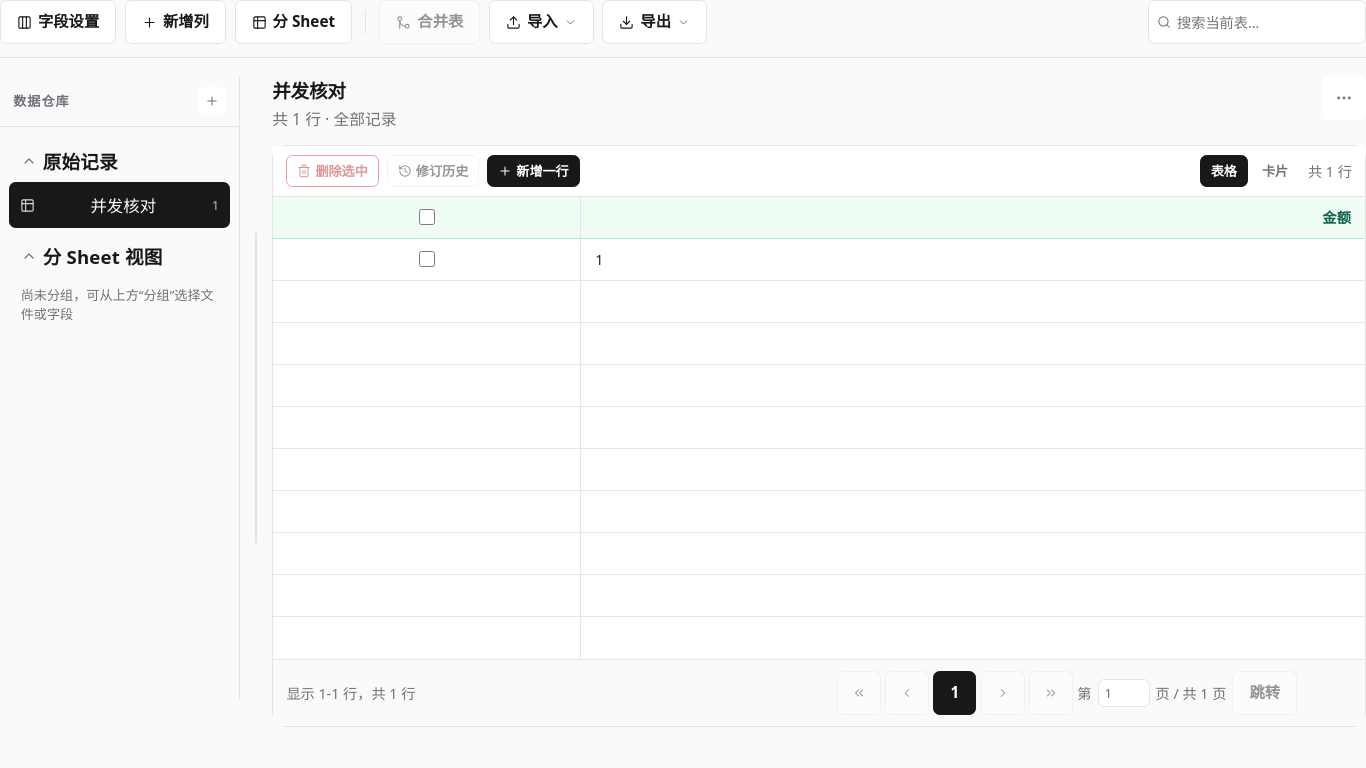
it: keeps the edit-start version for a header cell when the same DOM receives refreshed facts
The width and height of the screenshot is (1366, 768).
Click the cell named "编辑 金额，当前值 1": click(973, 260) [581,239,1365,281]
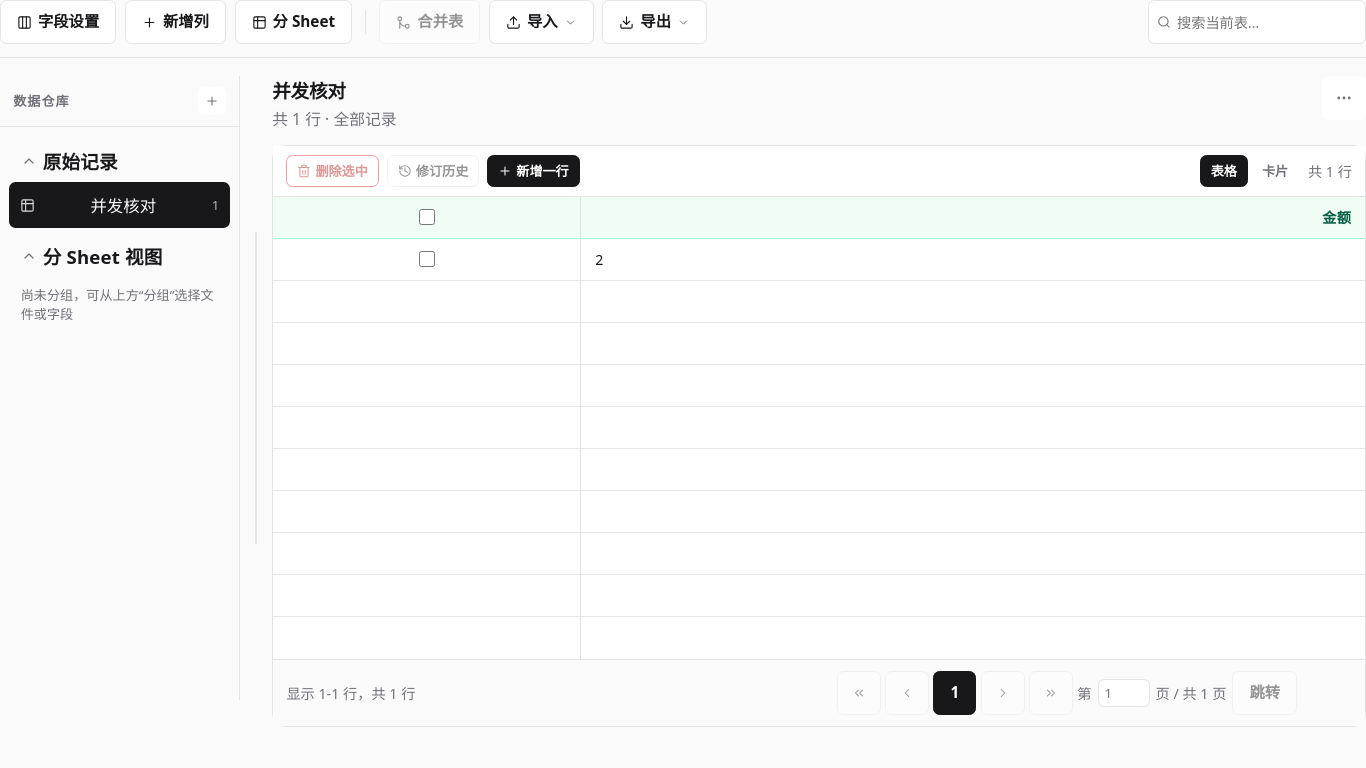
Clear the text box labelled "2": (599, 259) [595,250,603,269]
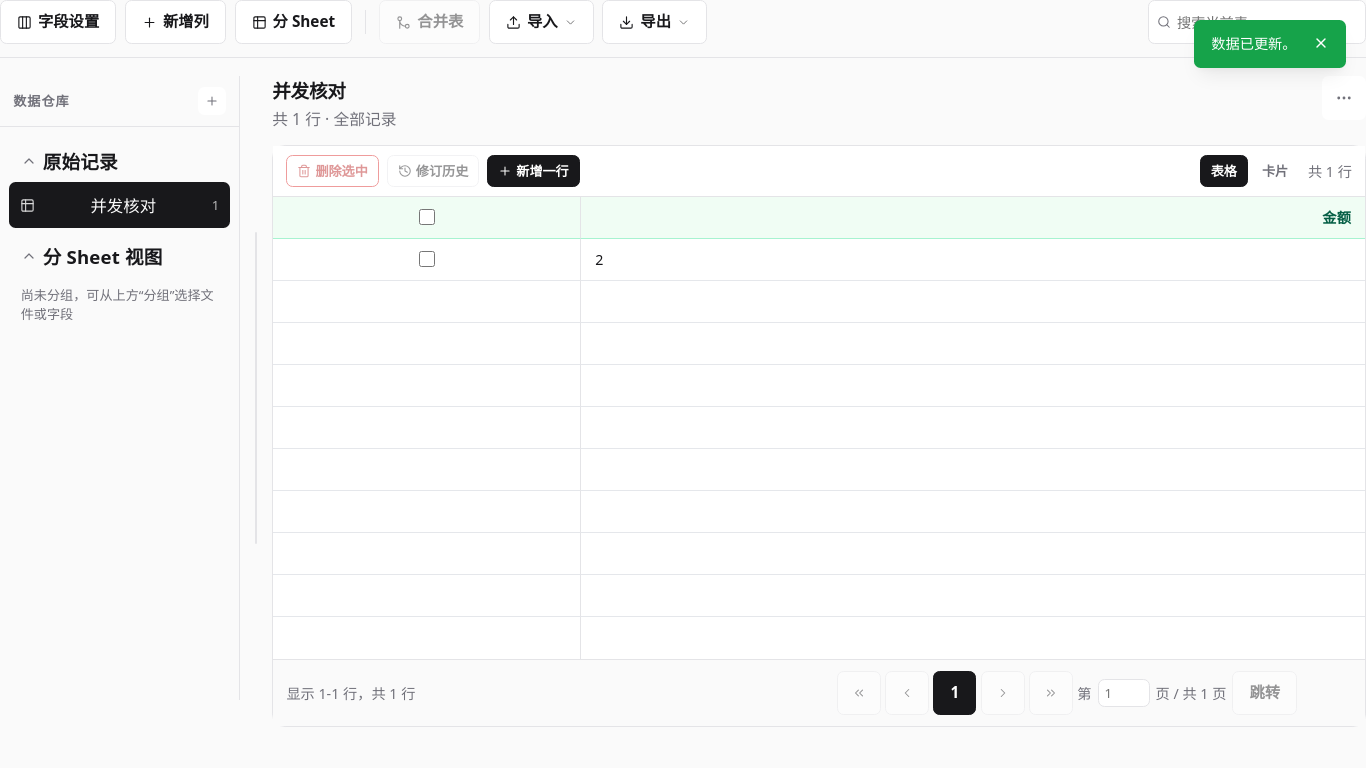
expect the cell named "编辑 金额，当前值 99" is shown: met, box [581,239,1365,281]
Press Enter in the text box labelled "2", box [595,250,603,269]
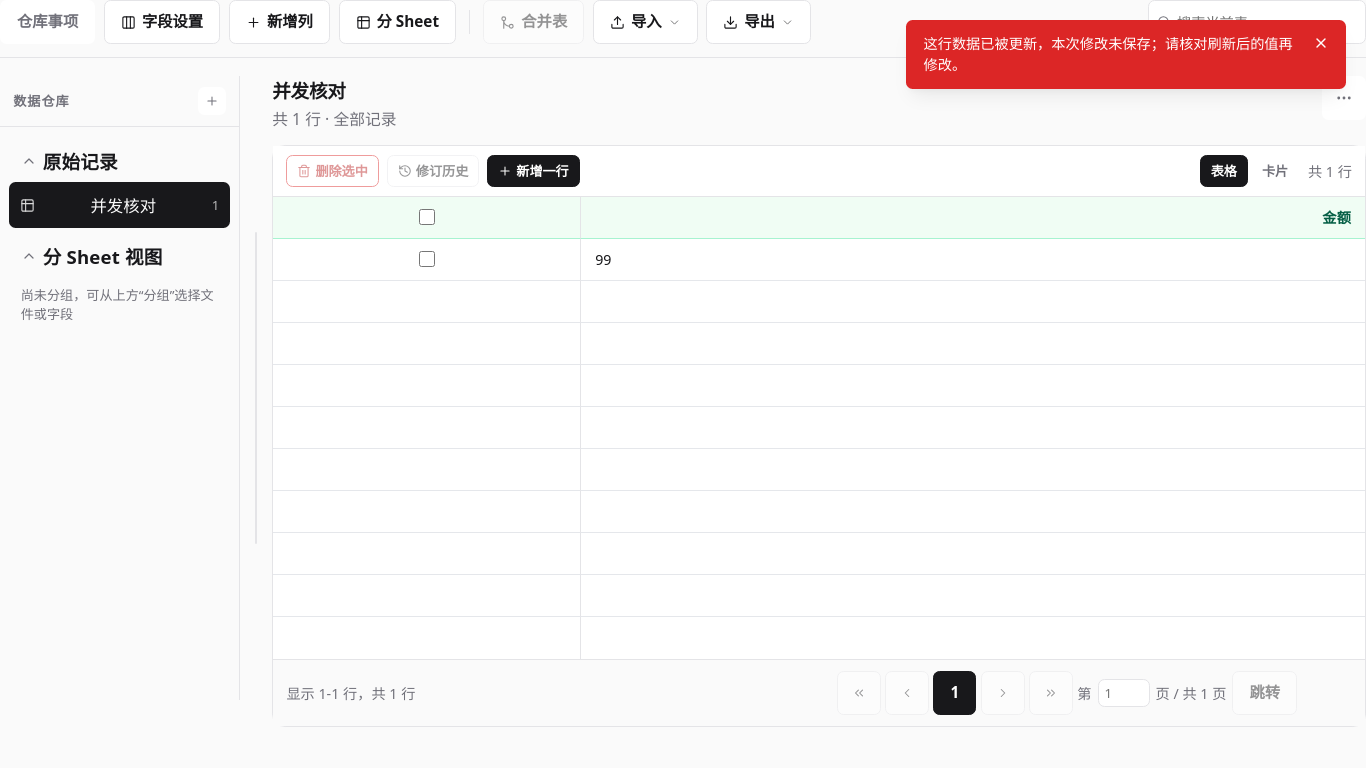
Click the button "仓库事项": click(48, 22) [0,0,95,44]
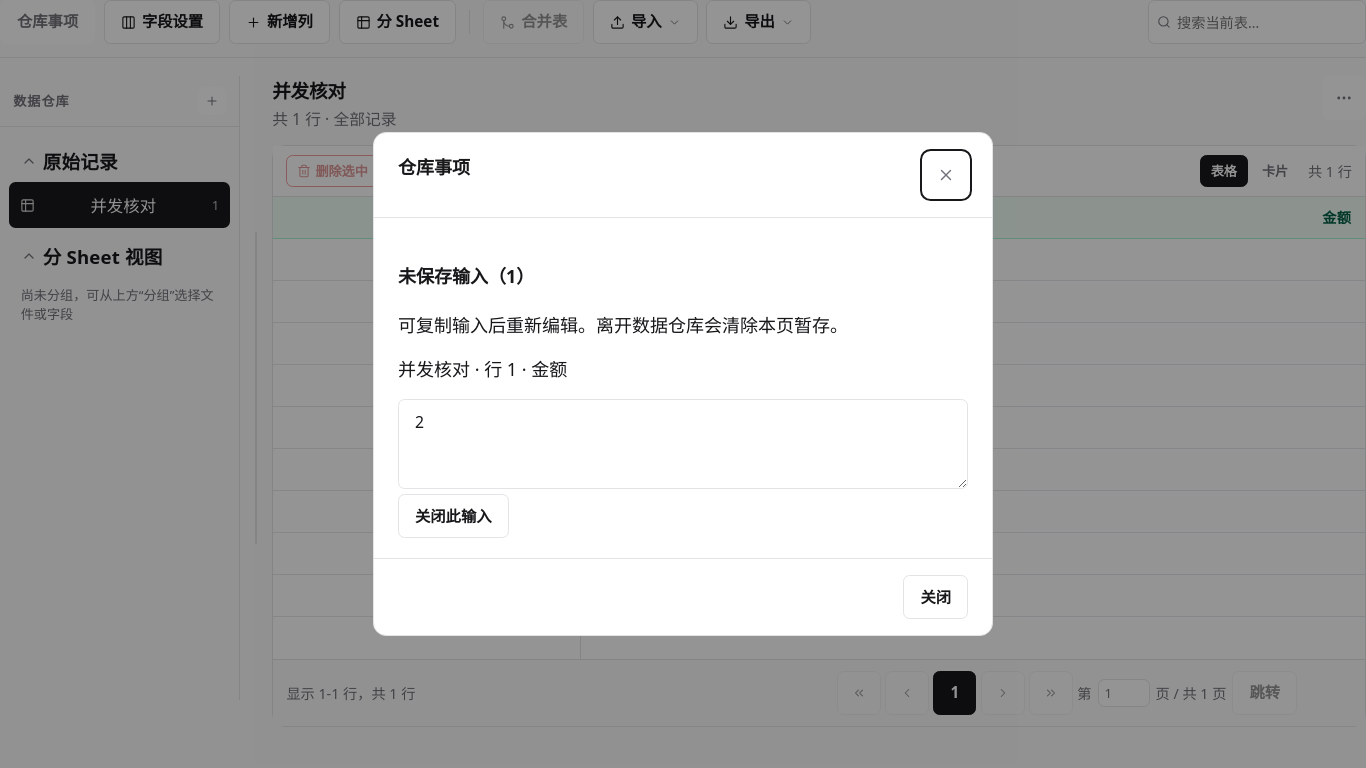
expect the text box named "未保存输入：并发核对 · 行 1 · 金额" holds "2": met, box [398,399,968,489]
